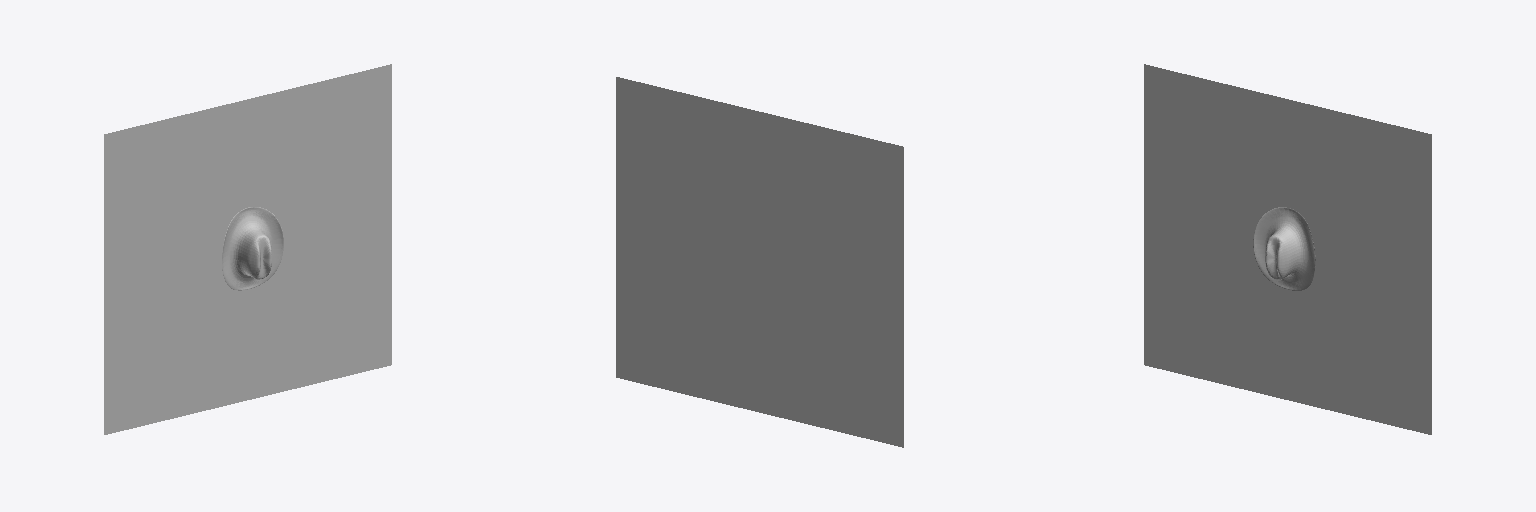
File: cowboyhat.obj
3 renders of one model, left to right at view 1: azimuth 30°, elevation 25°; view 2: azimuth 150°, elevation 25°; view 3: azimuth 330°, elevation 25°, orthographic.
Visible parts, largest first — view 1: Cube_Cube, Circle.001_None; view 2: Cube_Cube; view 3: Cube_Cube, Circle.001_None.
Boxes of the visible parts, <box> form: Cube_Cube: <box>104,64,391,434</box>; Circle.001_None: <box>222,207,283,290</box>; Cube_Cube: <box>616,77,903,447</box>; Cube_Cube: <box>1144,64,1431,434</box>; Circle.001_None: <box>1253,207,1315,290</box>.
Size of the model in its own units: 39.43 by 39.43 by 3.96.